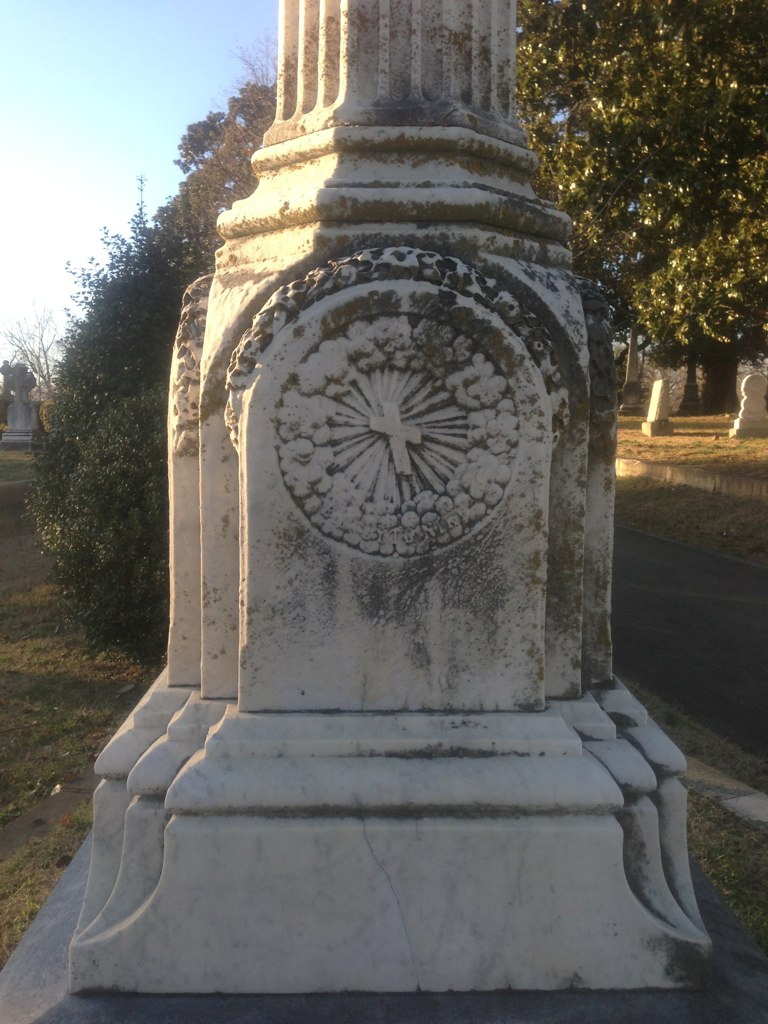obelisk: (80, 0, 698, 1015)
